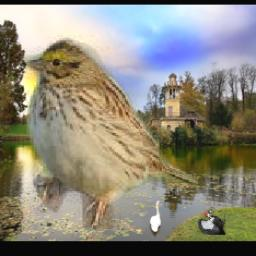Sparrow: (19, 35, 199, 229)
Woodpecker: (199, 207, 226, 236)
